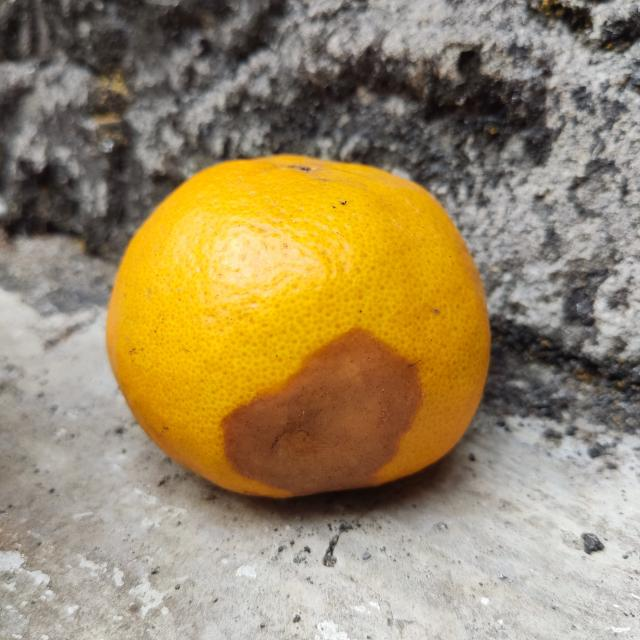orange: (105, 152, 490, 500)
